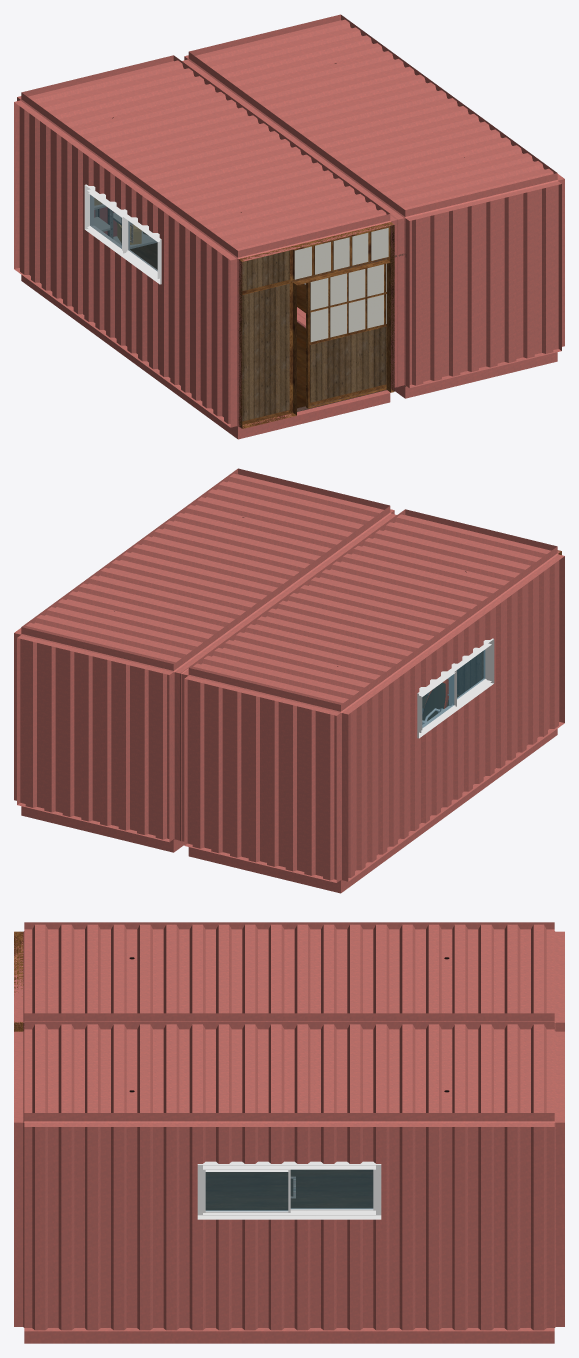
The model's file is shipping-container_room_toys.gltf.
3 views of the same model, one above another, from view 1: azimuth 30°, elevation 25°; view 2: azimuth 150°, elevation 25°; view 3: azimuth 270°, elevation 25° (orthographic). The views are drawn at different scales.
Visible parts, largest first — view 1: wall.001, ceiling.001, ceiling.002, frame, wall.007, frame.door, door, frame.window.004, frame.window.006, floor, frame.window.005; view 2: wall.001, ceiling.001, ceiling.002, frame, wall.003, wall.006, frame.window.004, frame.window.006, frame.window.005, door, seat; view 3: wall.005, ceiling.001, ceiling.002, frame, floor, frame.window.002, frame.window.003, frame.window.001, frame.door.
Part boxes in pixels (<box>): wall.001: <box>19,106,230,423</box>; ceiling.001: <box>27,60,386,250</box>; ceiling.002: <box>195,19,553,209</box>; frame: <box>14,14,564,439</box>; wall.007: <box>409,185,558,385</box>; frame.door: <box>238,222,394,428</box>; door: <box>306,263,386,408</box>; frame.window.004: <box>84,184,161,284</box>; frame.window.006: <box>87,189,126,253</box>; floor: <box>130,243,305,408</box>; frame.window.005: <box>126,219,157,274</box>; wall.001: <box>348,560,559,877</box>; ceiling.001: <box>192,514,551,704</box>; ceiling.002: <box>25,473,383,663</box>; frame: <box>14,468,564,893</box>; wall.003: <box>187,679,336,880</box>; wall.006: <box>20,639,169,839</box>; frame.window.004: <box>417,638,494,738</box>; frame.window.006: <box>419,669,456,732</box>; frame.window.005: <box>449,647,488,705</box>; door: <box>457,651,483,697</box>; seat: <box>422,679,448,720</box>; wall.005: <box>24,1127,554,1330</box>; ceiling.001: <box>24,924,554,1013</box>; ceiling.002: <box>24,1024,554,1112</box>; frame: <box>14,922,564,1343</box>; floor: <box>206,1170,372,1209</box>; frame.window.002: <box>203,1167,290,1214</box>; frame.window.003: <box>288,1165,375,1210</box>; frame.window.001: <box>197,1161,381,1219</box>; frame.door: <box>14,931,23,1031</box>.
Size of what is drawn, in the model's own units: 180 by 97 by 210.
57 materials, 39 textured.
